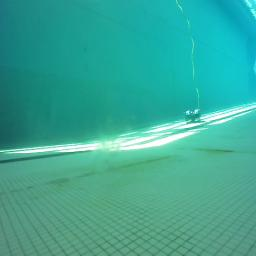front: (183, 109, 202, 123)
